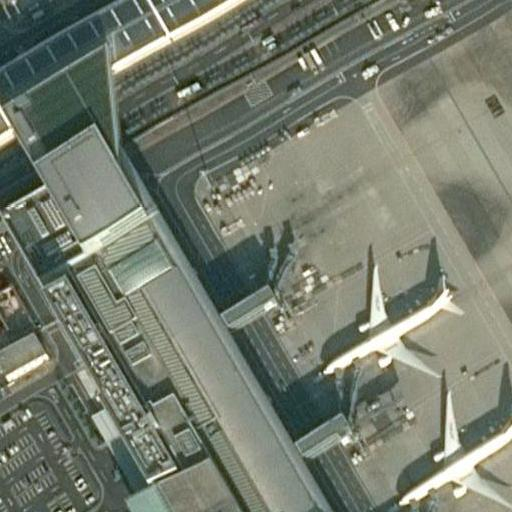Aircraft: (314, 252, 453, 384), (395, 387, 512, 512)
